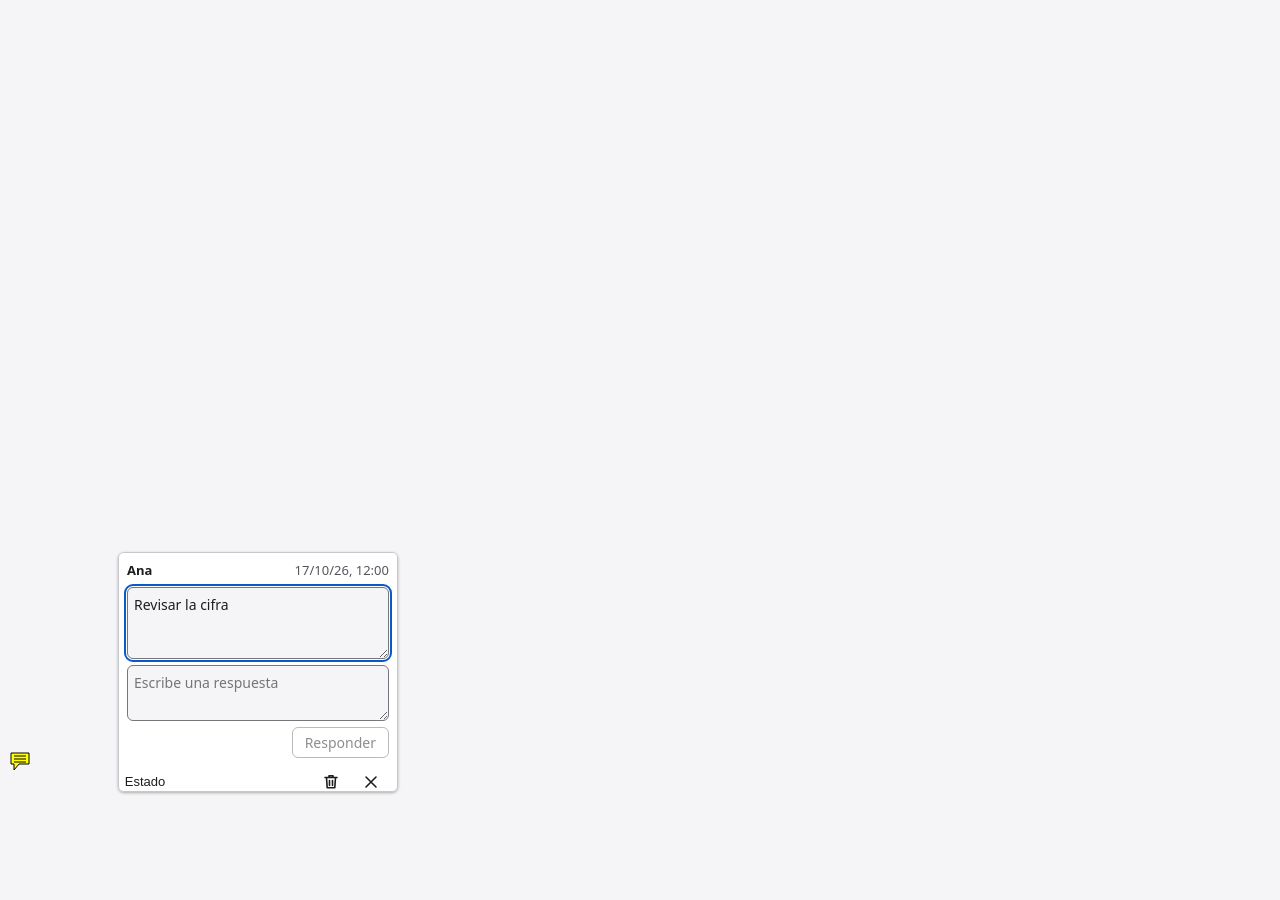
Test: Ventana de comentario · respuestas y estados (PDF-109) › borrar una respuesta la quita de la lista
Step 1. Type "Sobra" into the text box labelled "Escribe una respuesta" → (258, 692), box [127,664,389,720]
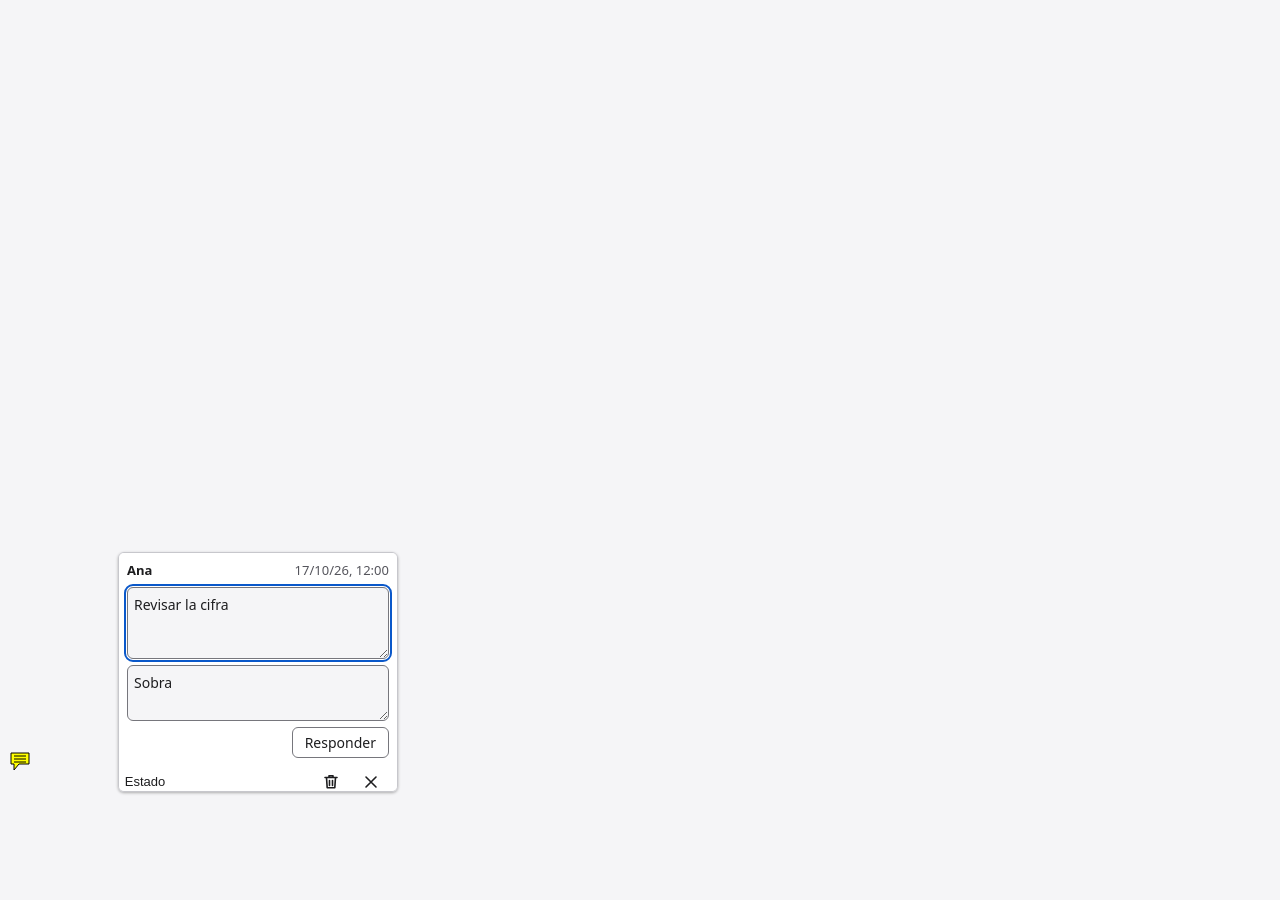
Step 2. Click the button "Responder" → (340, 742), box [292,726,389,758]
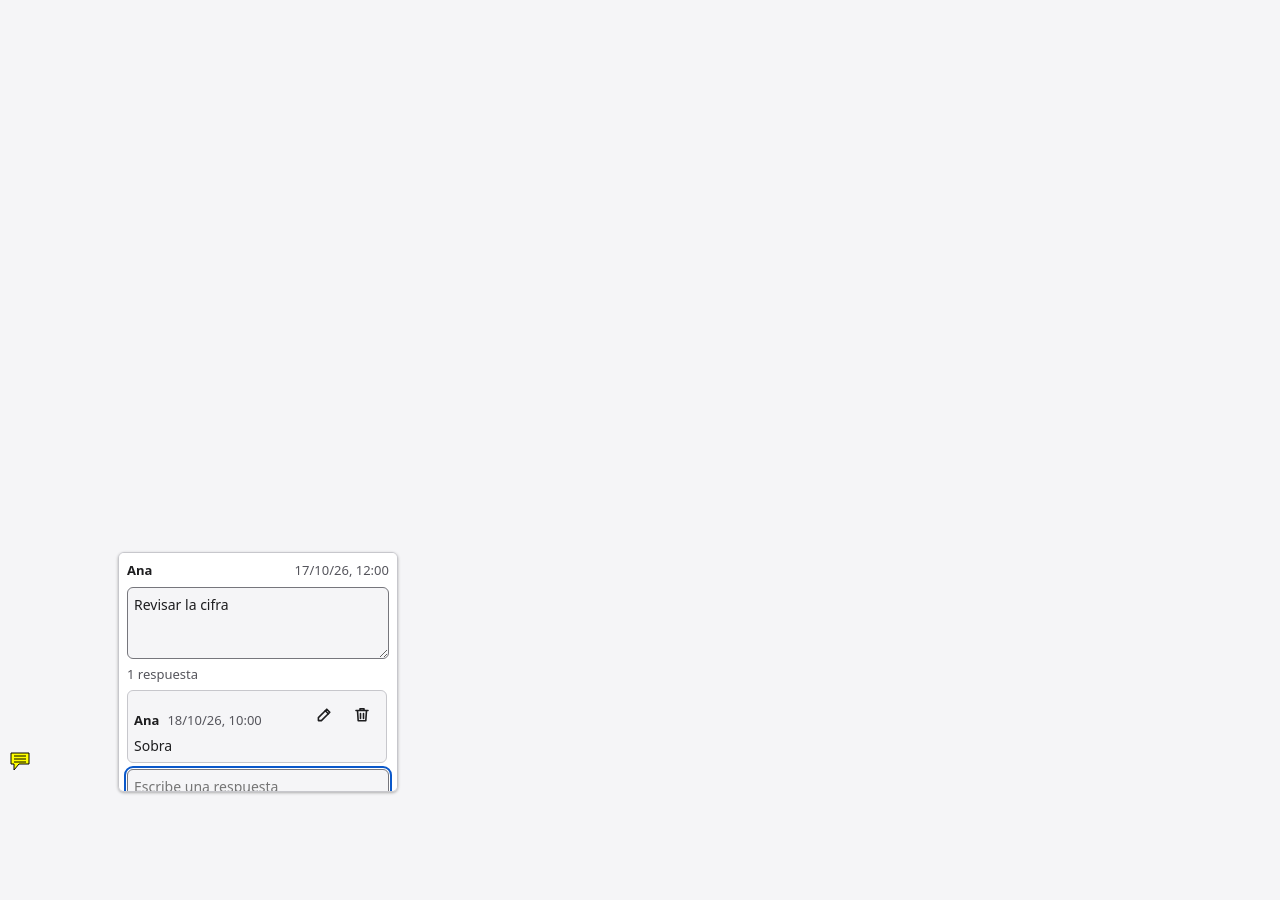
Step 3. Click the button named "Borrar respuesta" → (362, 715), box [344,697,380,733]
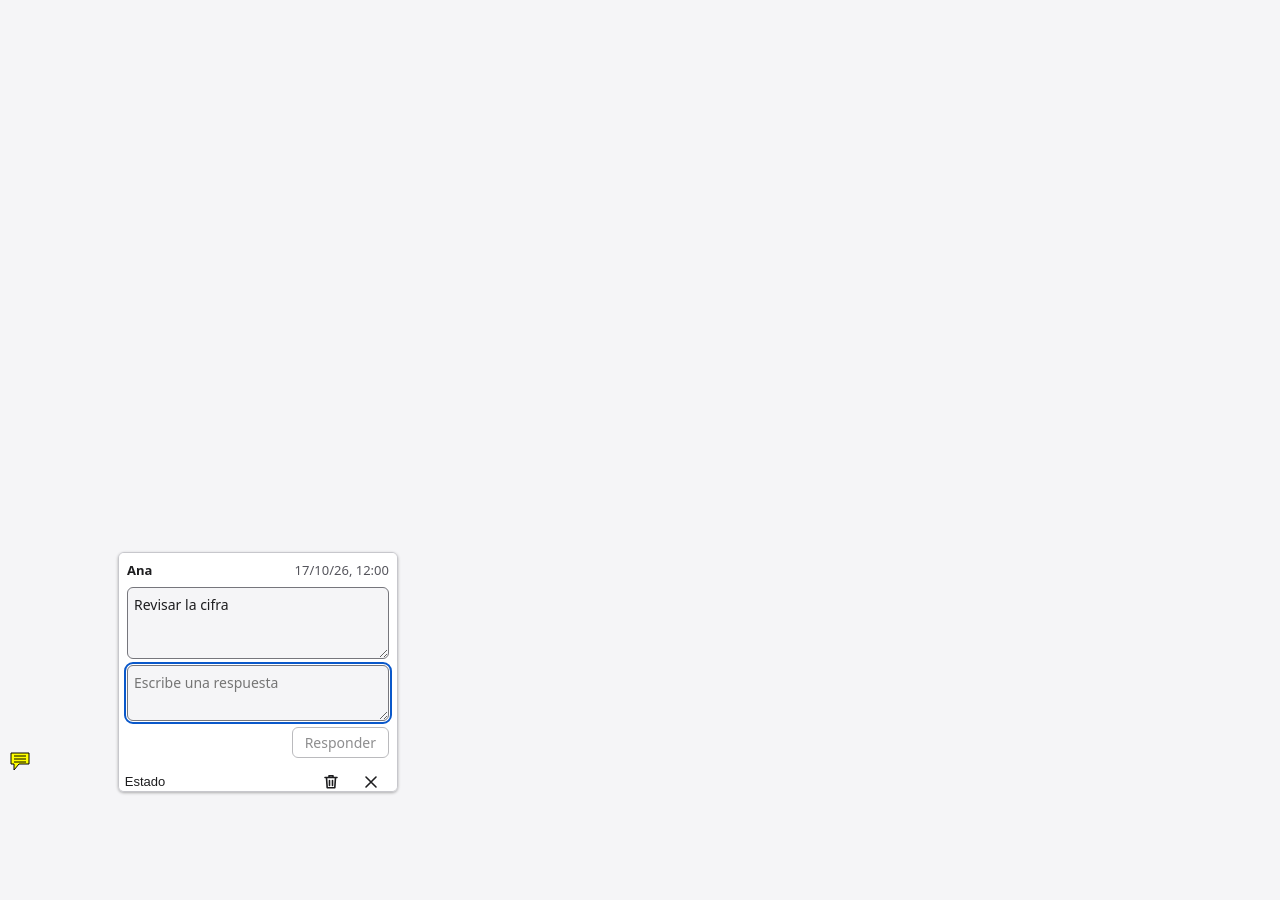
Result: the list "Respuestas" is gone
Result: the text "Sobra" is gone
